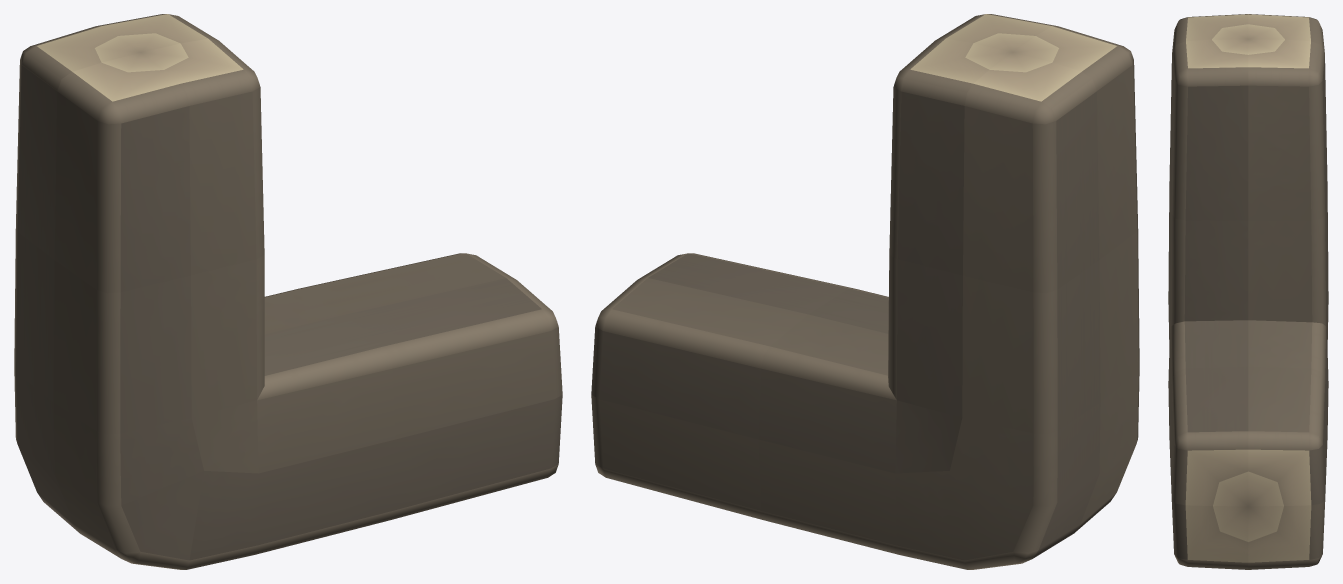
File: DryWood_BranchSmall_L.fbx
3 views of the same model, side by side, from view 1: azimuth 30°, elevation 25°; view 2: azimuth 150°, elevation 25°; view 3: azimuth 270°, elevation 25° (orthographic). The views are drawn at different scales.
Visible parts, largest first — view 1: DryWood_BranchSmall_L_LOD0; view 2: DryWood_BranchSmall_L_LOD0; view 3: DryWood_BranchSmall_L_LOD0.
Part boxes in pixels (box(x1,y1,x2,y2)): DryWood_BranchSmall_L_LOD0: box(14, 14, 562, 569); DryWood_BranchSmall_L_LOD0: box(591, 14, 1139, 569); DryWood_BranchSmall_L_LOD0: box(1168, 14, 1328, 569).
Size of what is drawn, in the model's own units: 0.7896 by 0.79 by 0.2929.
